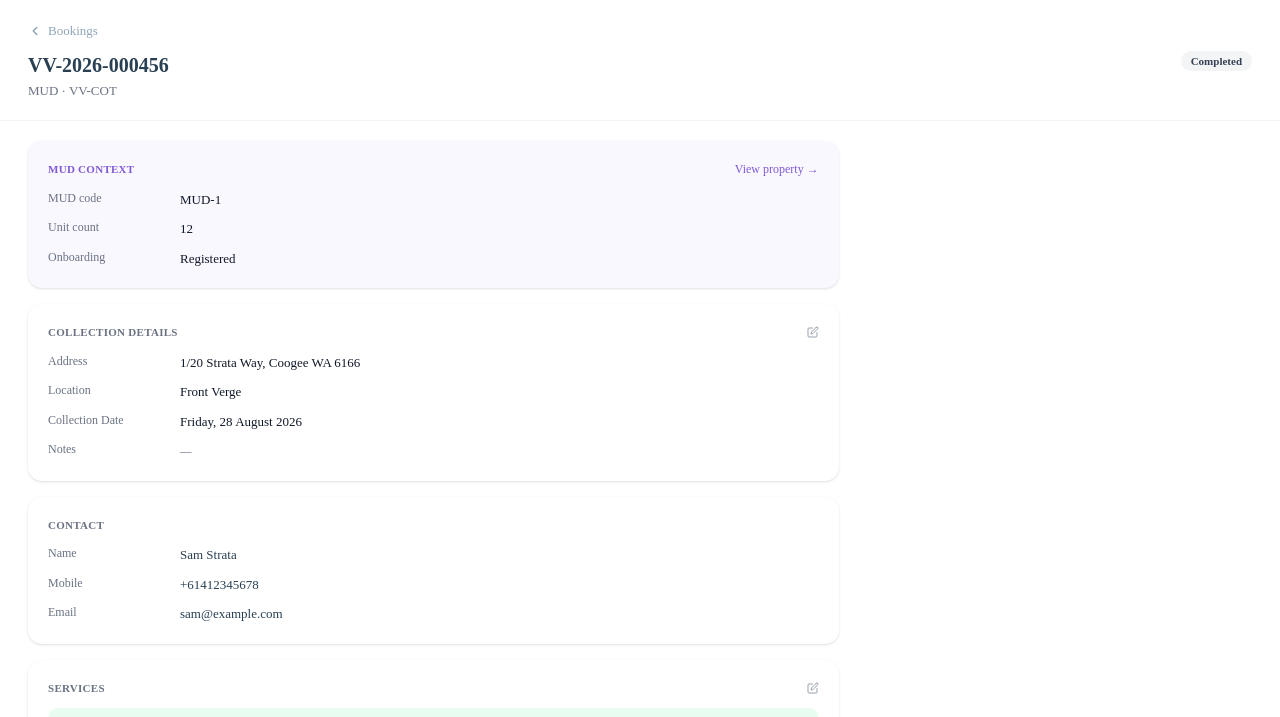
it: MUD collected-count editor — interaction › a touched count returned to its original value is excluded again (no empty audit rows)
The width and height of the screenshot is (1280, 717).
Step 1. Click the button named "Edit collected counts" → (813, 688), box top-left (807, 682), bottom-right (819, 694)
(page scrolled)
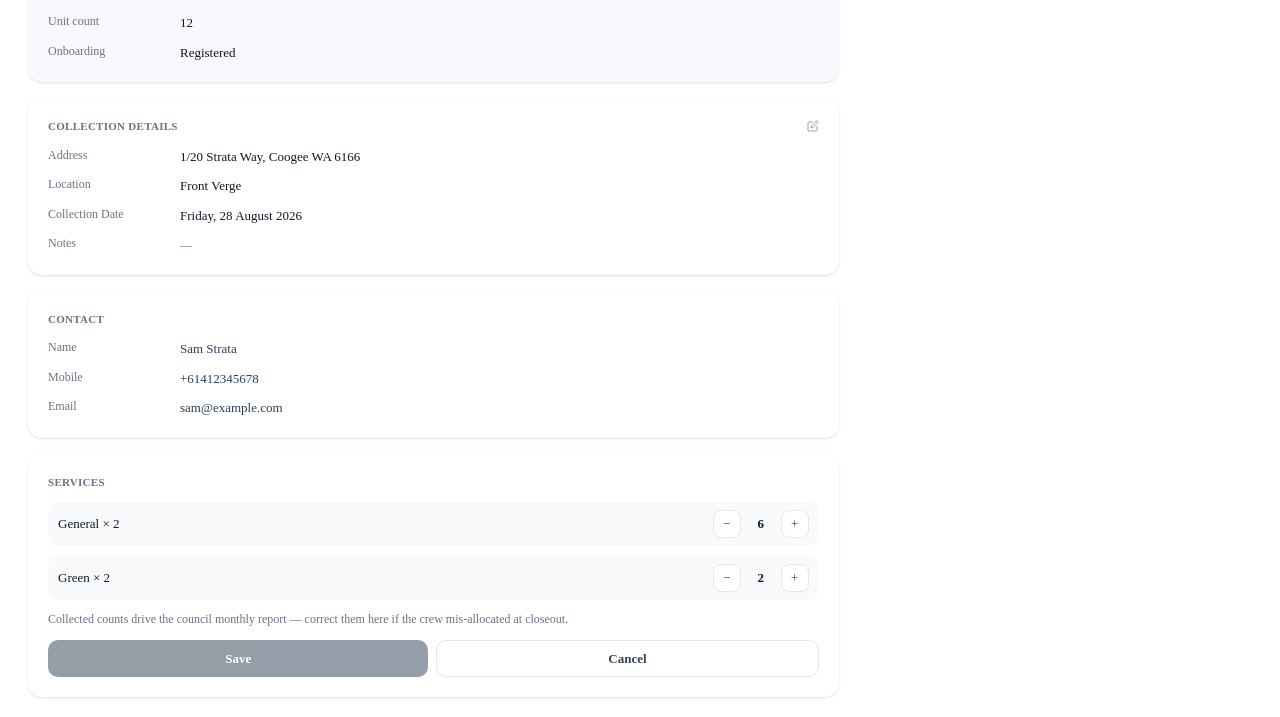
Step 2. Click the button named "Decrease General collected count" → (727, 524), box top-left (713, 510), bottom-right (741, 538)
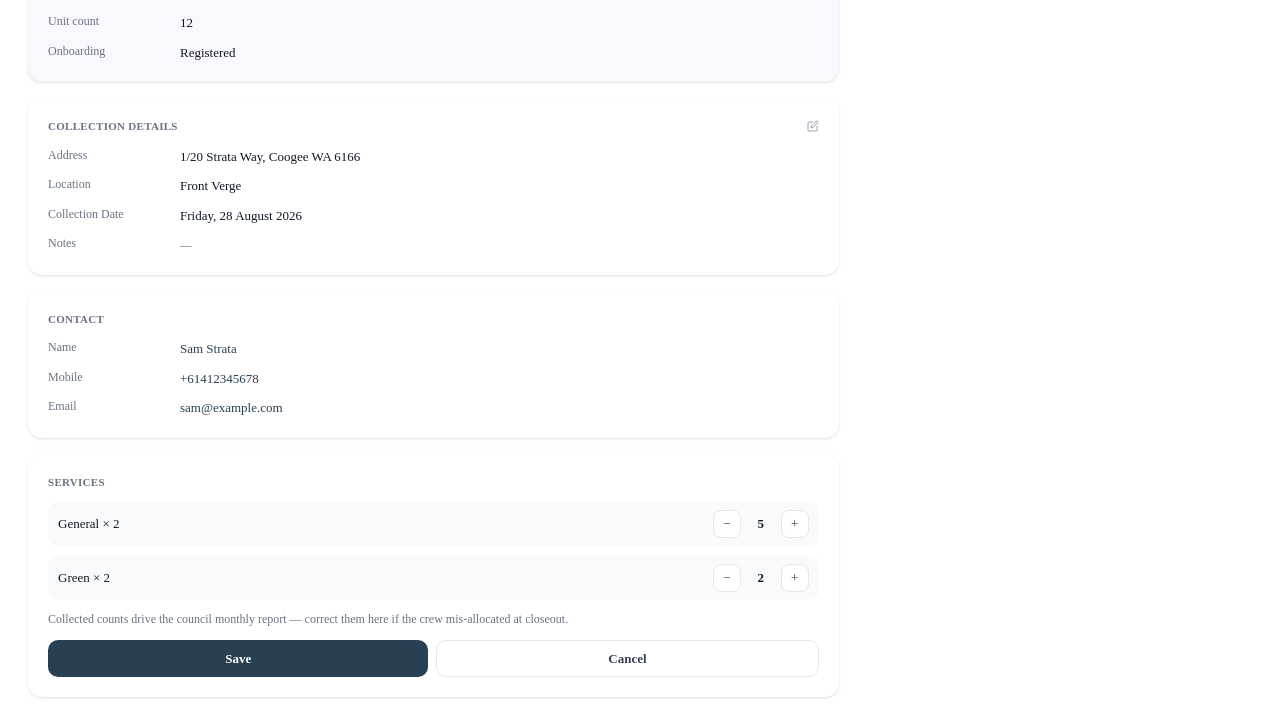
Step 3. Click the button named "Increase General collected count" → (795, 524), box top-left (781, 510), bottom-right (809, 538)
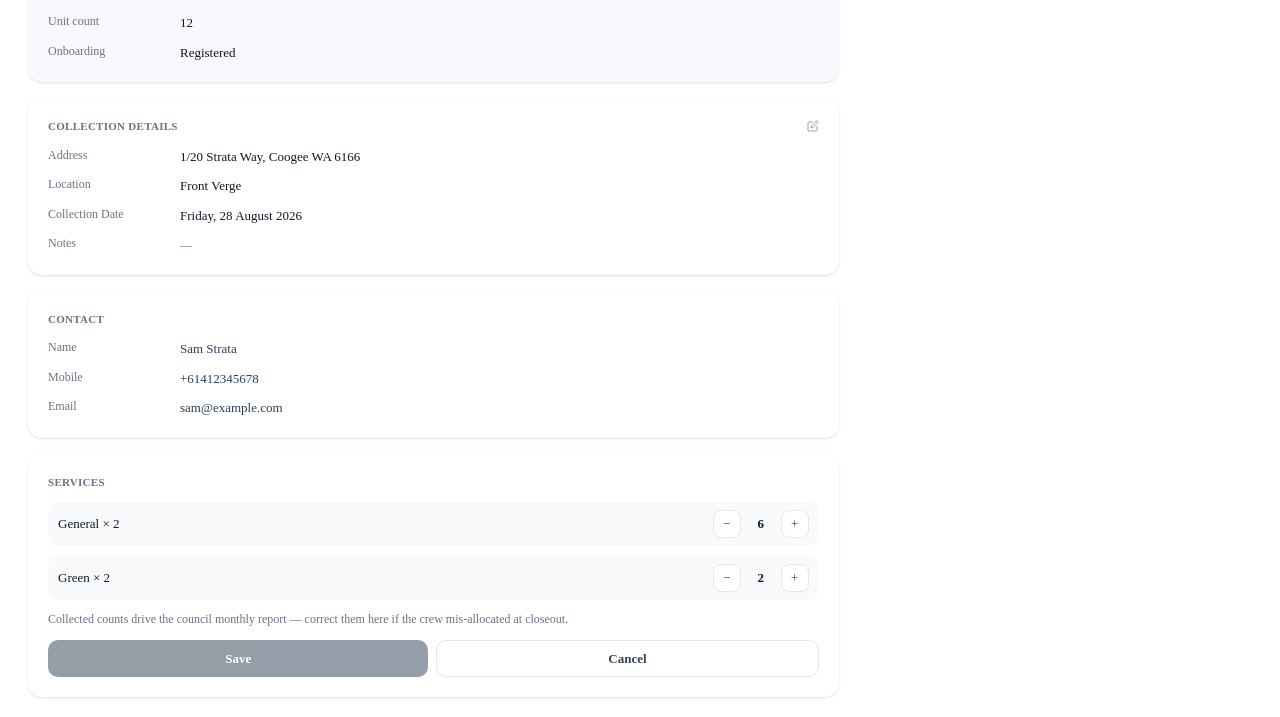
Now the button "Save" is disabled, box top-left (48, 640), bottom-right (428, 677)
